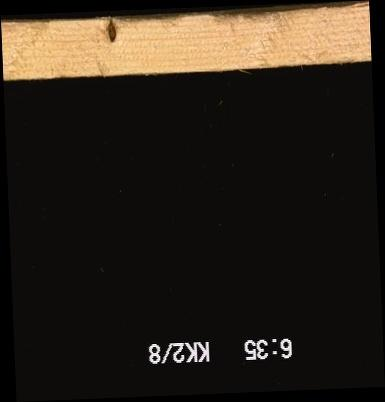dry_knot: (106, 18, 117, 45)
